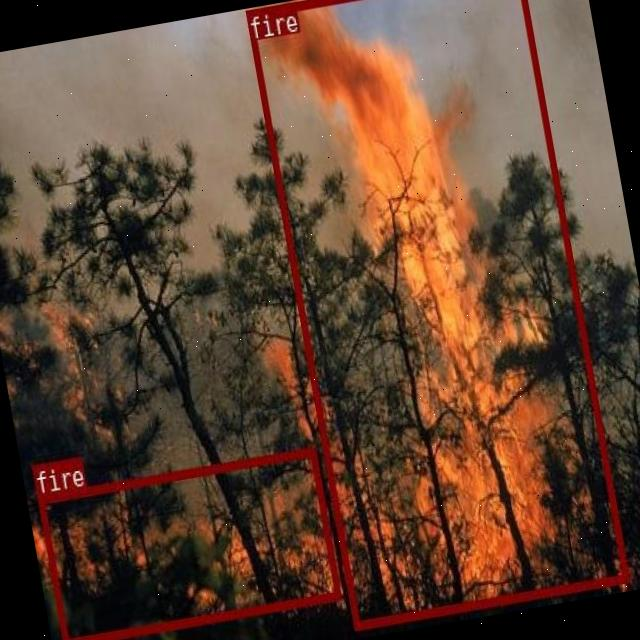fire: (245, 0, 627, 629), (36, 446, 341, 640)
